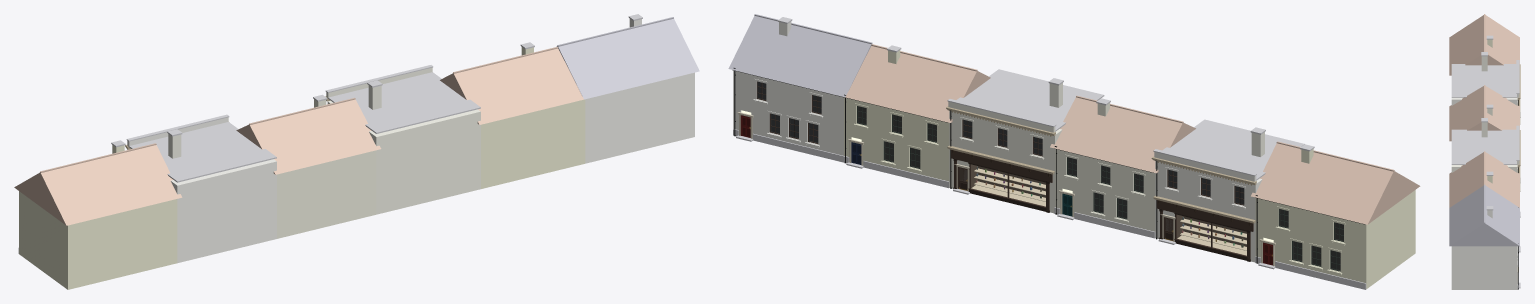
Rendered from social-cafe-south-frontage.glb.
The picture shows the model from 3 angles, left to right: view 1: azimuth 30°, elevation 25°; view 2: azimuth 150°, elevation 25°; view 3: azimuth 270°, elevation 25°; orthographic projection. The views are drawn at different scales.
Visible parts, largest first — view 1: mesh_cebc8f3b53ee_300, mesh_cebc8f3b53ee_403, mesh_cebc8f3b53ee_351, mesh_cebc8f3b53ee_308, mesh_cebc8f3b53ee_437, mesh_cebc8f3b53ee_430, mesh_cebc8f3b53ee_414, mesh_cebc8f3b53ee_365, mesh_cebc8f3b53ee_422, mesh_cebc8f3b53ee_373, mesh_cebc8f3b53ee_382, mesh_cebc8f3b53ee_318 (+1 smaller); view 2: mesh_cebc8f3b53ee_300, mesh_cebc8f3b53ee_308, mesh_cebc8f3b53ee_437, mesh_cebc8f3b53ee_422, mesh_cebc8f3b53ee_373, mesh_cebc8f3b53ee_414, mesh_cebc8f3b53ee_382, mesh_cebc8f3b53ee_365, mesh_cebc8f3b53ee_430, mesh_cebc8f3b53ee_318, mesh_cebc8f3b53ee_351, mesh_cebc8f3b53ee_403 (+16 smaller); view 3: mesh_cebc8f3b53ee_437, mesh_cebc8f3b53ee_430, mesh_cebc8f3b53ee_308, mesh_cebc8f3b53ee_422, mesh_cebc8f3b53ee_373, mesh_cebc8f3b53ee_382, mesh_cebc8f3b53ee_318, mesh_cebc8f3b53ee_360, mesh_cebc8f3b53ee_351, mesh_cebc8f3b53ee_429, mesh_cebc8f3b53ee_403, mesh_cebc8f3b53ee_409 (+2 smaller).
Boxes of the visible parts, x1,y1,x2,y2 form: mesh_cebc8f3b53ee_300: [19, 145, 177, 289]; mesh_cebc8f3b53ee_403: [326, 67, 480, 214]; mesh_cebc8f3b53ee_351: [127, 117, 276, 263]; mesh_cebc8f3b53ee_308: [14, 143, 182, 225]; mesh_cebc8f3b53ee_437: [556, 17, 699, 99]; mesh_cebc8f3b53ee_430: [585, 72, 694, 163]; mesh_cebc8f3b53ee_414: [481, 47, 585, 188]; mesh_cebc8f3b53ee_365: [277, 99, 376, 238]; mesh_cebc8f3b53ee_422: [440, 47, 583, 124]; mesh_cebc8f3b53ee_373: [236, 97, 381, 174]; mesh_cebc8f3b53ee_382: [325, 42, 534, 133]; mesh_cebc8f3b53ee_318: [126, 80, 382, 182]; mesh_cebc8f3b53ee_300: [1255, 149, 1415, 289]; mesh_cebc8f3b53ee_308: [1251, 141, 1420, 224]; mesh_cebc8f3b53ee_437: [728, 14, 872, 97]; mesh_cebc8f3b53ee_422: [845, 44, 990, 122]; mesh_cebc8f3b53ee_373: [1050, 95, 1195, 173]; mesh_cebc8f3b53ee_414: [844, 50, 949, 181]; mesh_cebc8f3b53ee_382: [752, 45, 1104, 194]; mesh_cebc8f3b53ee_365: [1055, 103, 1155, 231]; mesh_cebc8f3b53ee_430: [733, 70, 843, 155]; mesh_cebc8f3b53ee_318: [1048, 78, 1304, 244]; mesh_cebc8f3b53ee_351: [1154, 152, 1262, 262]; mesh_cebc8f3b53ee_403: [948, 101, 1062, 188]; mesh_cebc8f3b53ee_437: [1449, 184, 1519, 246]; mesh_cebc8f3b53ee_430: [1451, 246, 1517, 289]; mesh_cebc8f3b53ee_308: [1449, 14, 1519, 75]; mesh_cebc8f3b53ee_422: [1449, 151, 1519, 207]; mesh_cebc8f3b53ee_373: [1449, 85, 1519, 141]; mesh_cebc8f3b53ee_382: [1451, 125, 1520, 252]; mesh_cebc8f3b53ee_318: [1451, 52, 1520, 182]; mesh_cebc8f3b53ee_360: [1481, 56, 1487, 137]; mesh_cebc8f3b53ee_351: [1451, 94, 1519, 105]; mesh_cebc8f3b53ee_429: [1487, 210, 1517, 289]; mesh_cebc8f3b53ee_403: [1451, 161, 1519, 172]; mesh_cebc8f3b53ee_409: [1517, 130, 1520, 167].
Size of the model in its own units: 63.64 by 10.35 by 9.22.
